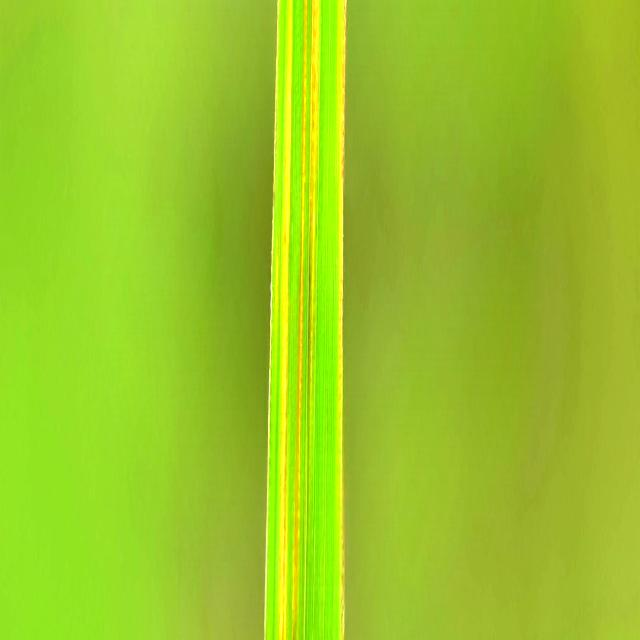BLS: (292, 0, 308, 640), (280, 0, 293, 640), (307, 0, 319, 431), (340, 0, 346, 640), (337, 0, 341, 81), (275, 235, 279, 307)
